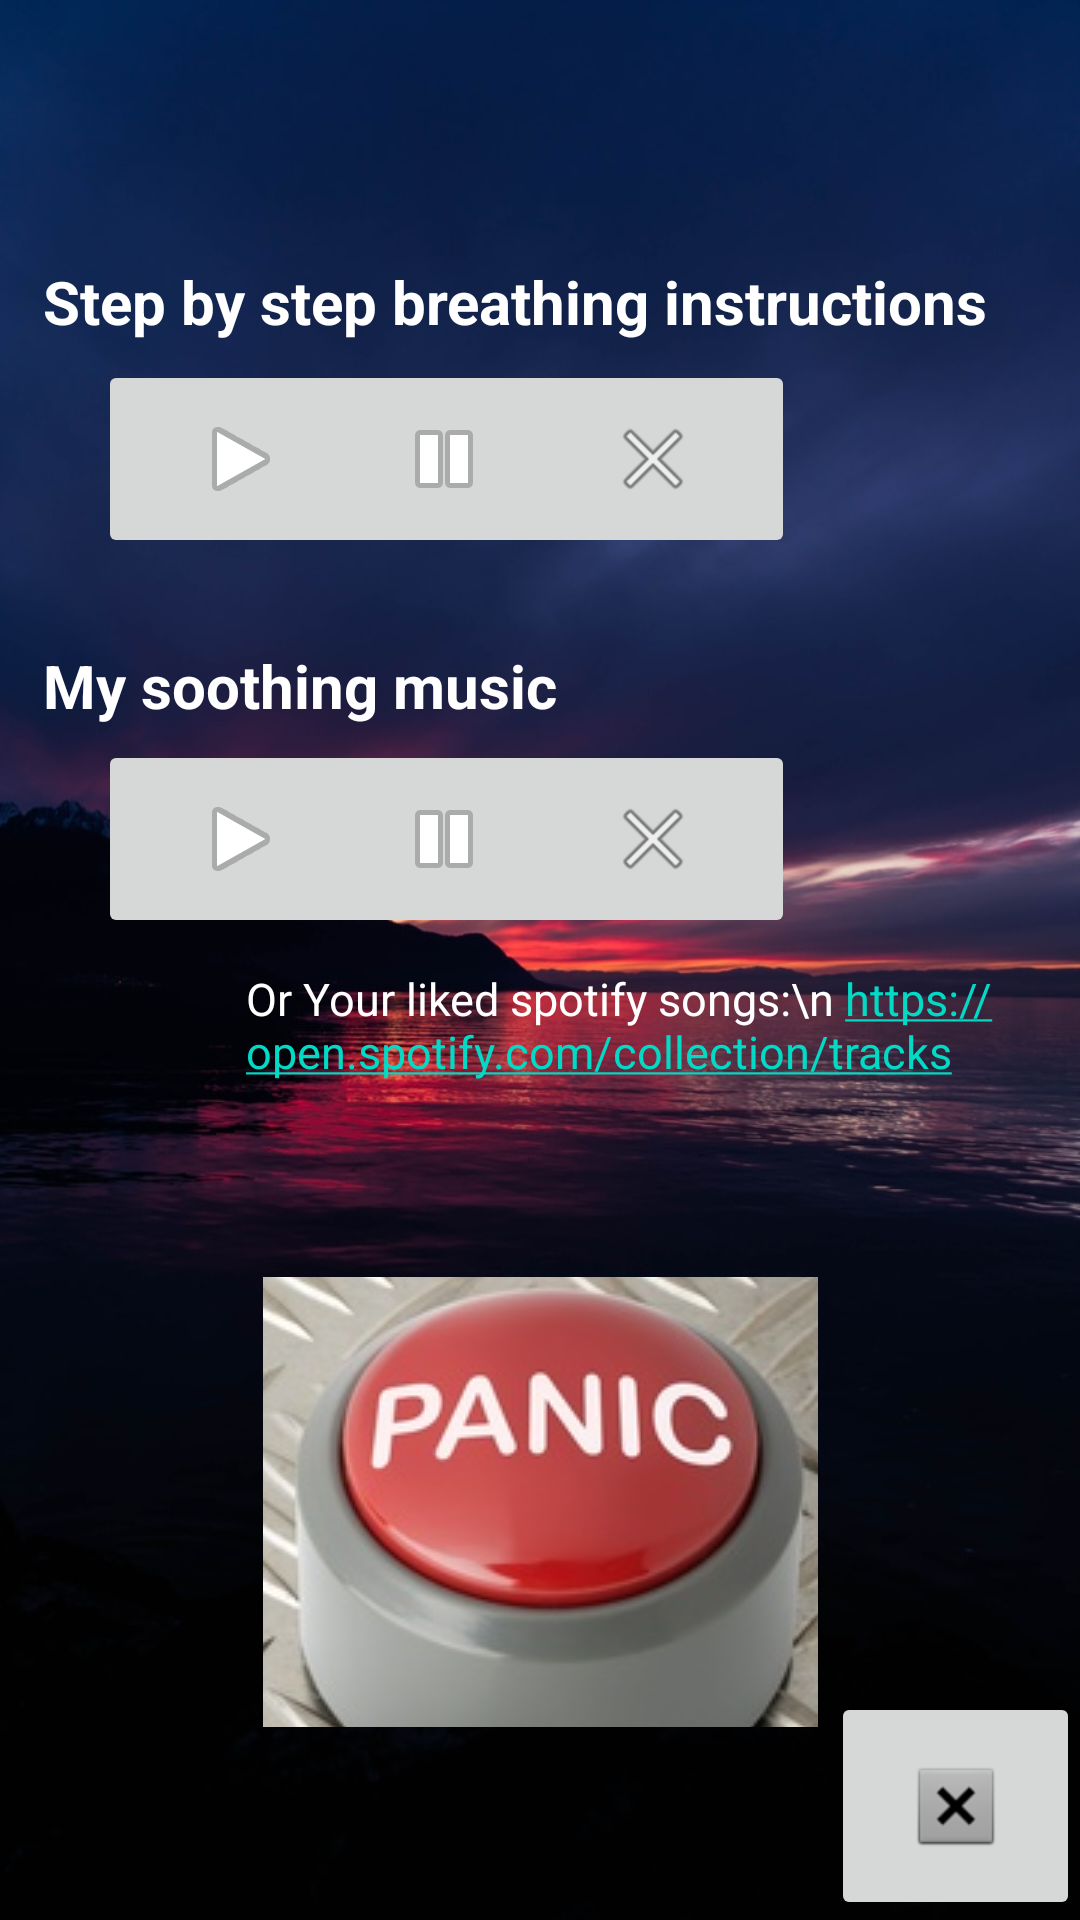

Named icons in this screenshot (1080px×1920px) and their centers, (x=x, y=y):
close clear cancel: (x=652, y=468), (x=652, y=839)
pause: (x=443, y=459), (x=443, y=839)
play: (x=246, y=459), (x=240, y=839)
